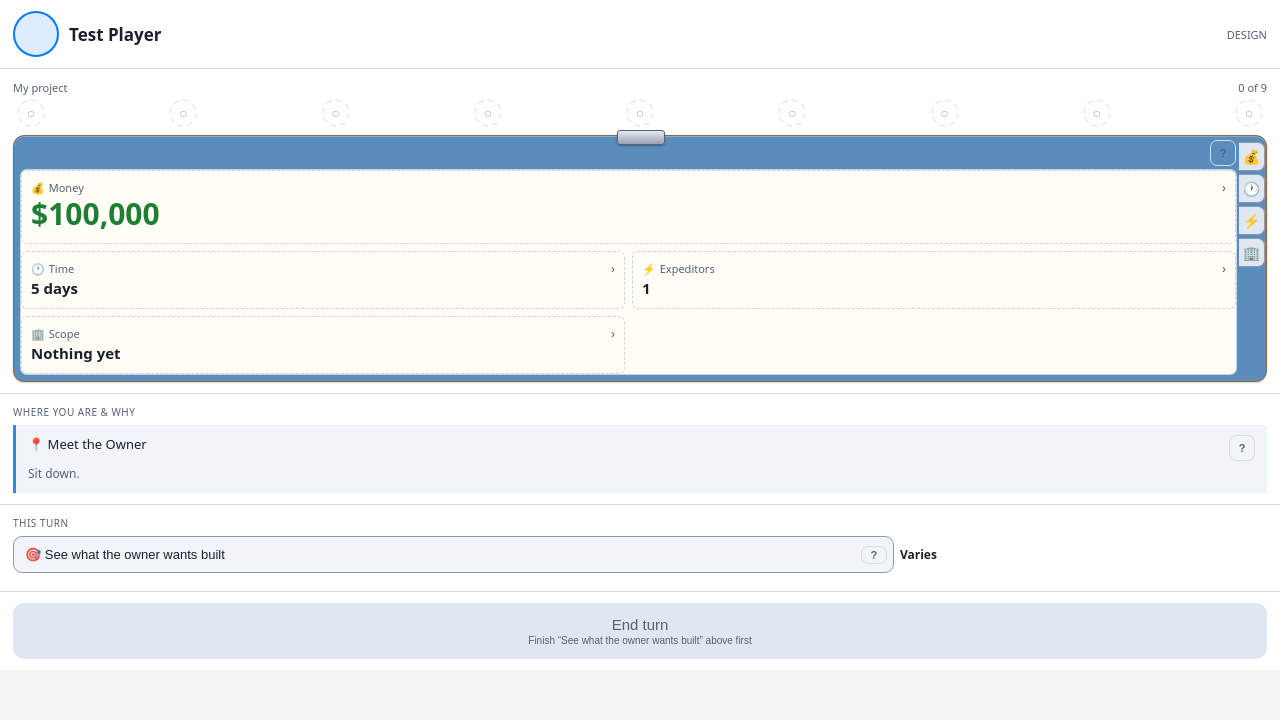
Test: PlayerPanelV2 — one "?" everywhere › a new space starts fresh › does not carry a dice row's card to the next space, though every dice row shares one key
Click the button named "What's this? See what the owner wants built" at x=874, y=554, box left=861, top=546, right=887, bottom=564
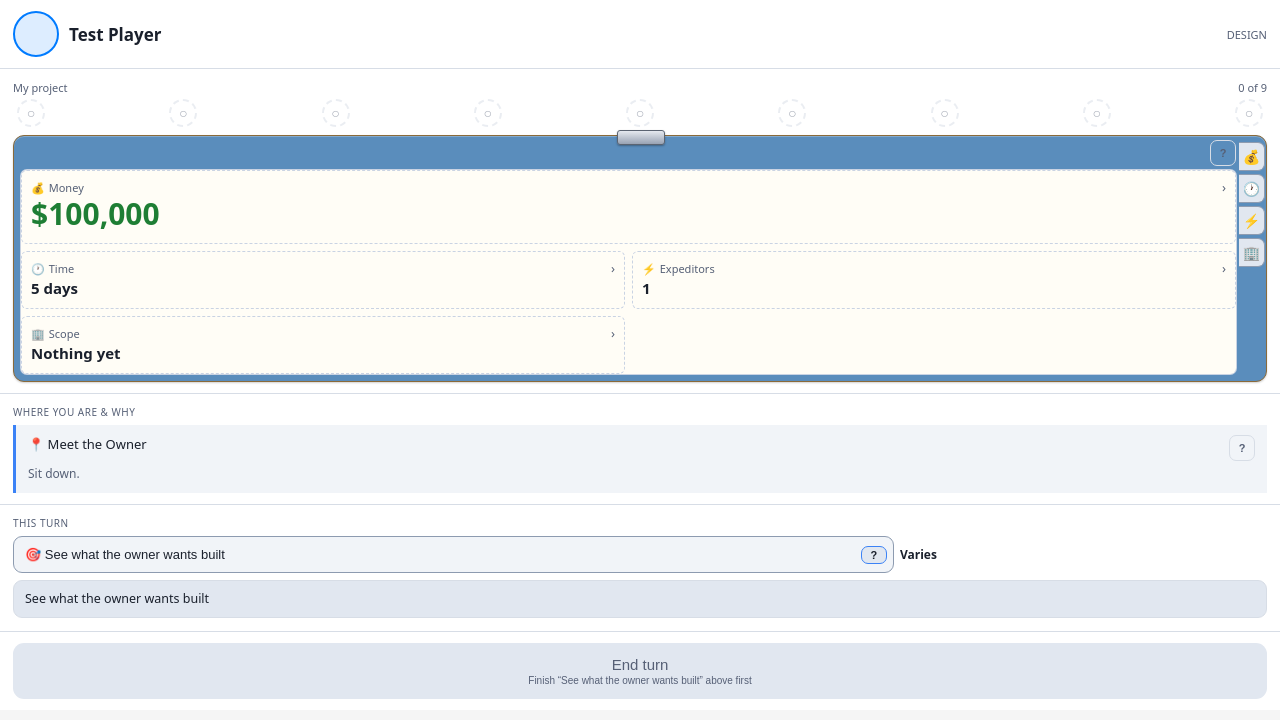
Check: the number of elements with test id "help-card" is 1, box left=13, top=580, right=1267, bottom=618
